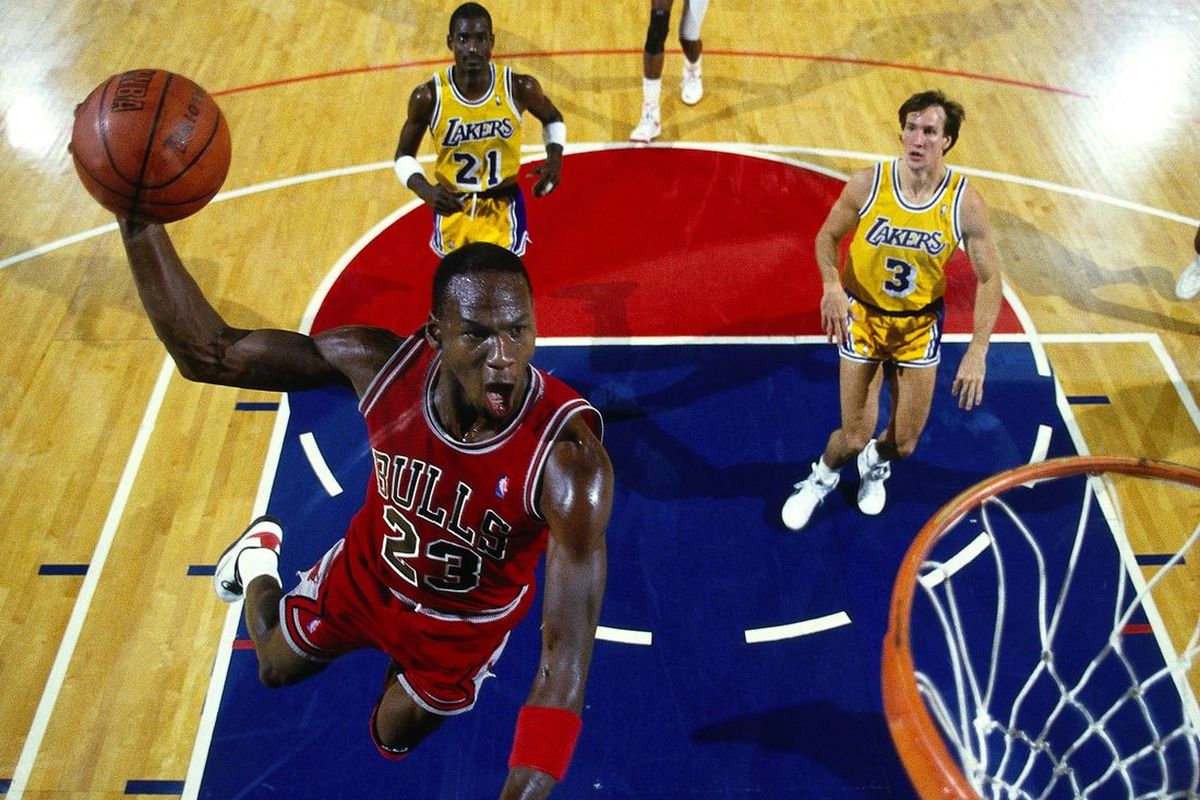basketball: (69, 66, 236, 228)
basketball player: (119, 218, 614, 797), (776, 79, 1013, 542), (393, 1, 570, 266)
